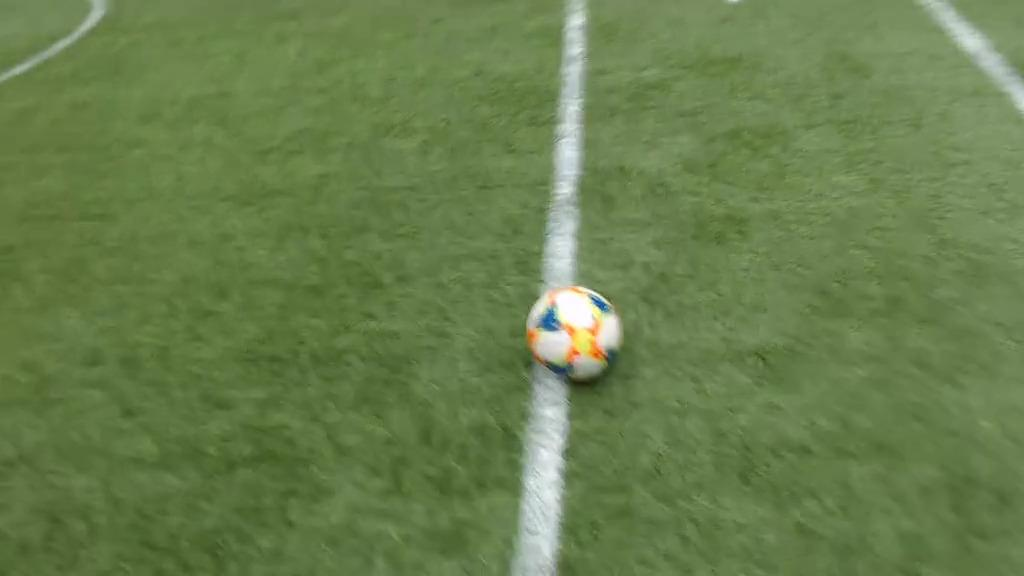ball: (525, 283, 621, 383)
